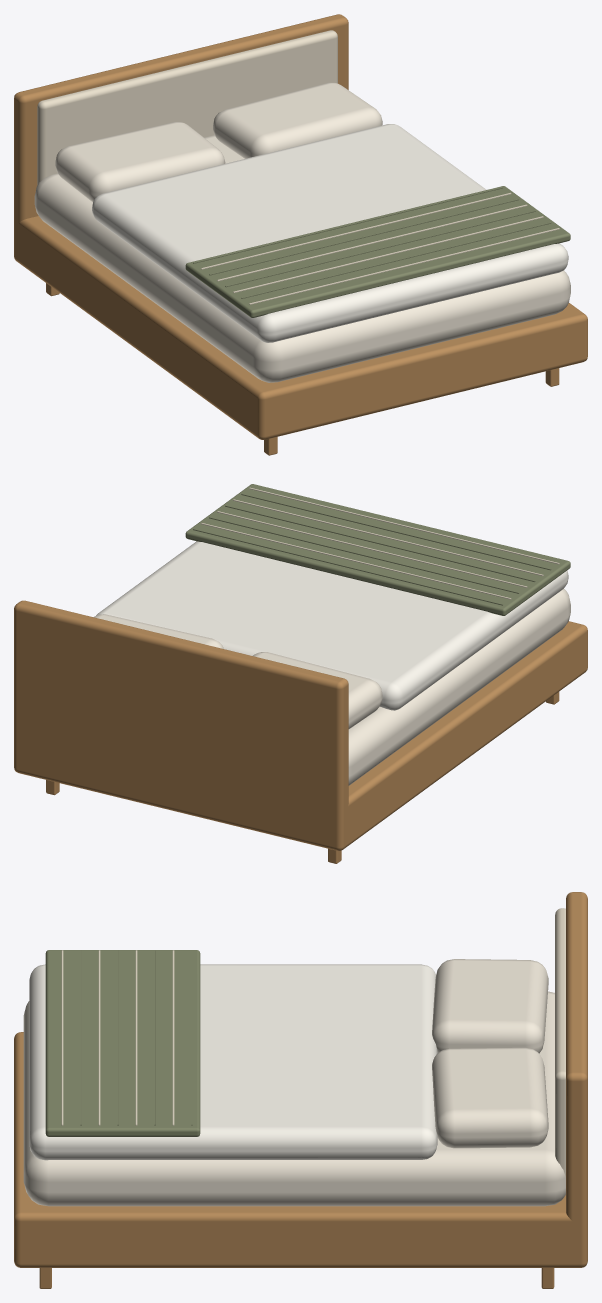
The picture shows the model from 3 angles, top to bottom: view 1: azimuth 30°, elevation 25°; view 2: azimuth 150°, elevation 25°; view 3: azimuth 270°, elevation 25°; orthographic projection. The views are drawn at different scales.
Visible parts, largest first — view 1: Duvet, Oak platform, Mattress, Sage bed throw, Upholstered headboard inset, Cotton pillow (×2), Headboard, Throw stitched fold (×8); view 2: Headboard, Duvet, Sage bed throw, Oak platform, Mattress, Throw stitched fold (×8), Cotton pillow (×2); view 3: Duvet, Oak platform, Mattress, Sage bed throw, Cotton pillow (×2), Headboard, Upholstered headboard inset, Throw stitched fold (×4).
Boxes of the visible parts, x1,y1,x2,y2 form: Duvet: (92,124,568,342); Oak platform: (18,216,587,439); Mattress: (34,135,570,382); Sage bed throw: (185,186,570,317); Upholstered headboard inset: (37,30,337,184); Cotton pillow (×2): (55,82,382,202); Headboard: (14,14,348,262); Throw stitched fold (×8): (193,187,559,304); Headboard: (14,600,348,850); Duvet: (96,541,568,710); Sage bed throw: (185,484,570,615); Oak platform: (347,621,587,846); Mattress: (348,588,570,785); Throw stitched fold (×8): (193,487,559,605); Cotton pillow (×2): (93,614,382,728); Duvet: (29,964,437,1160); Oak platform: (14,1032,572,1267); Mattress: (23,991,565,1206); Sage bed throw: (45,950,200,1136); Cotton pillow (×2): (432,959,548,1148); Headboard: (566,892,587,1267); Upholstered headboard inset: (555,908,565,1176); Throw stitched fold (×4): (61,950,174,1125).
Bounding box in the file's own units: 1.59 × 0.9 × 2.08.
